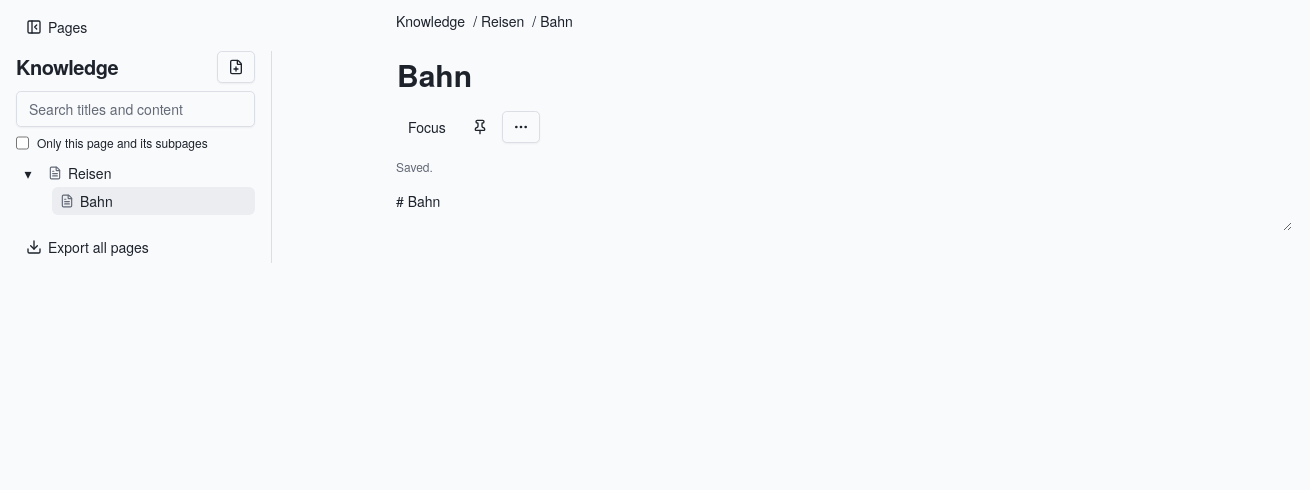
Test case: Knowledge › keeps what somebody wrote when the write is refused
Replace the text in the text box named "The page" with "meine Fassung" at (844, 211), box [396, 191, 1292, 231]
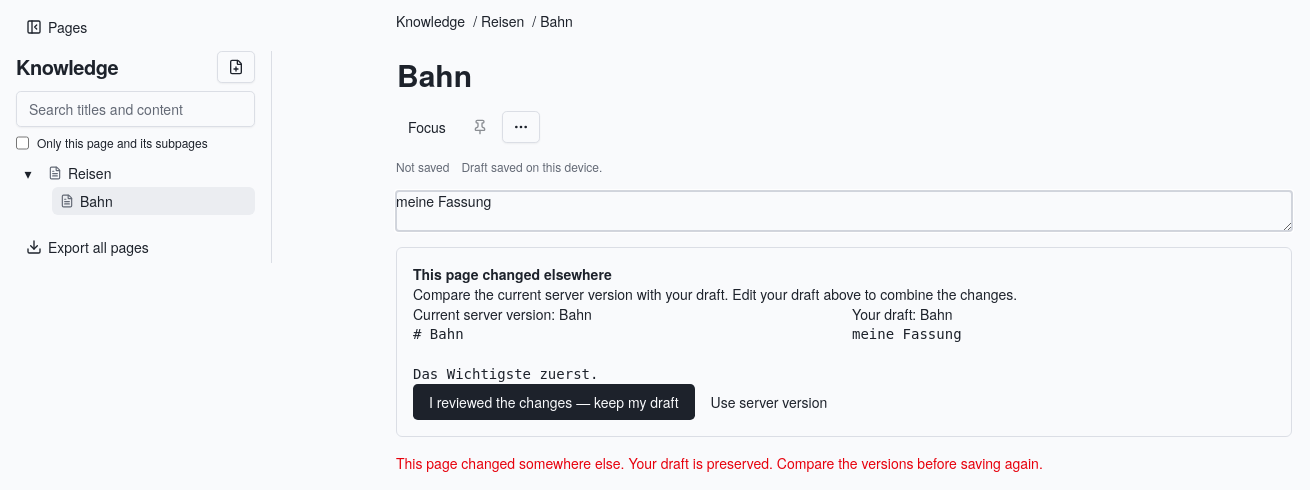
Check: the 2nd message shows "Your draft is preserved", box [396, 453, 1043, 473]
